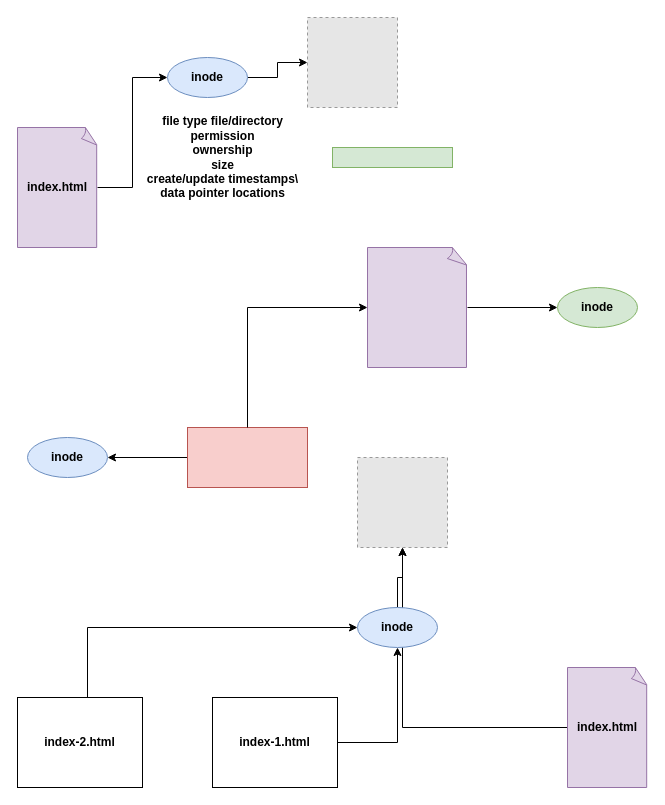
This 665x805 diagram has some shape labels left out. Grey dashed boxes stand in for pictures. The shapes that lost their labels are listed below. From the top down, each one's centre as x and y in pixels, then its label:
At pixel 392 157: "meta-data".
At pixel 417 307: "mobaxterm.exe".
At pixel 247 457: "symlink".
